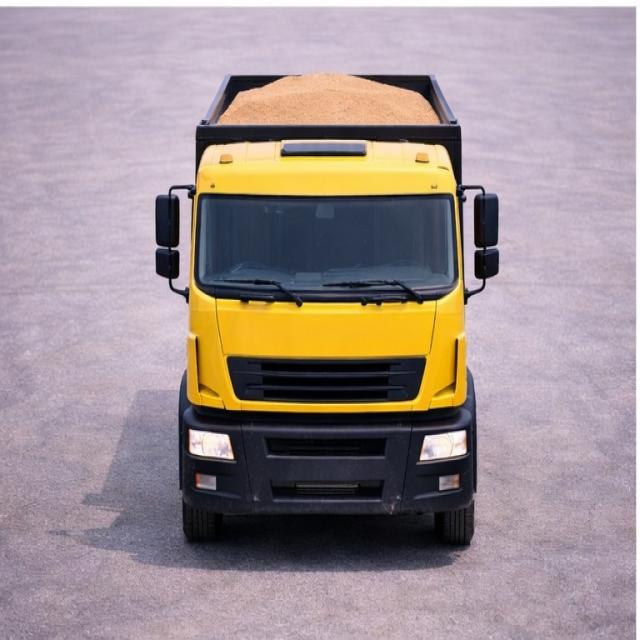Box: (195, 65, 479, 168)
Truck: (145, 49, 504, 562)
